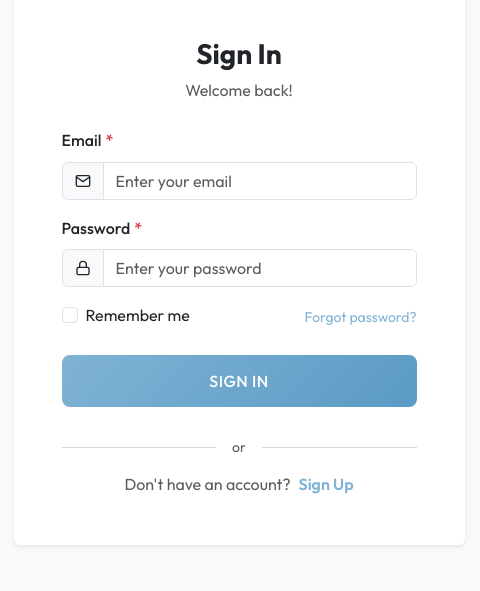
Test: Login Component › Form Validation › should validate required email field
Click the button "Sign In": [239, 381] box [62,355,416,407]
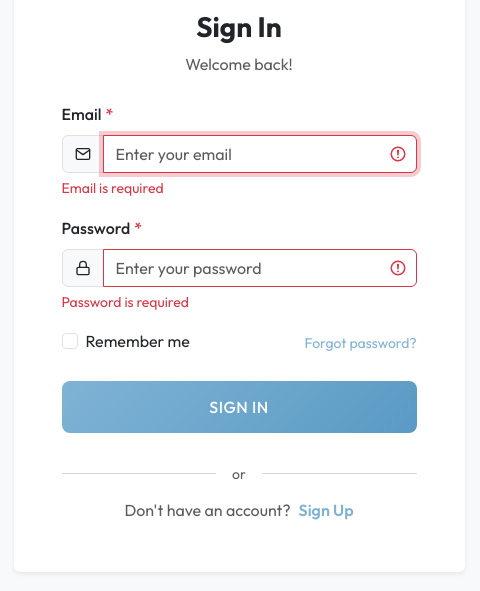
Expected: the text "Email is required" is shown, [62,179,164,197]
